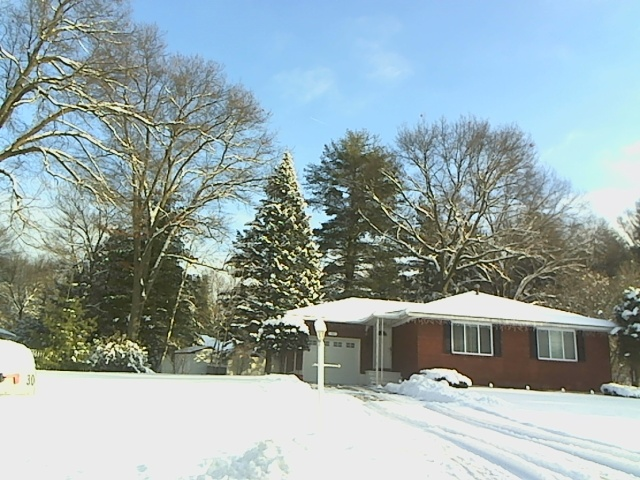Unploughed: (326, 378, 596, 469)
